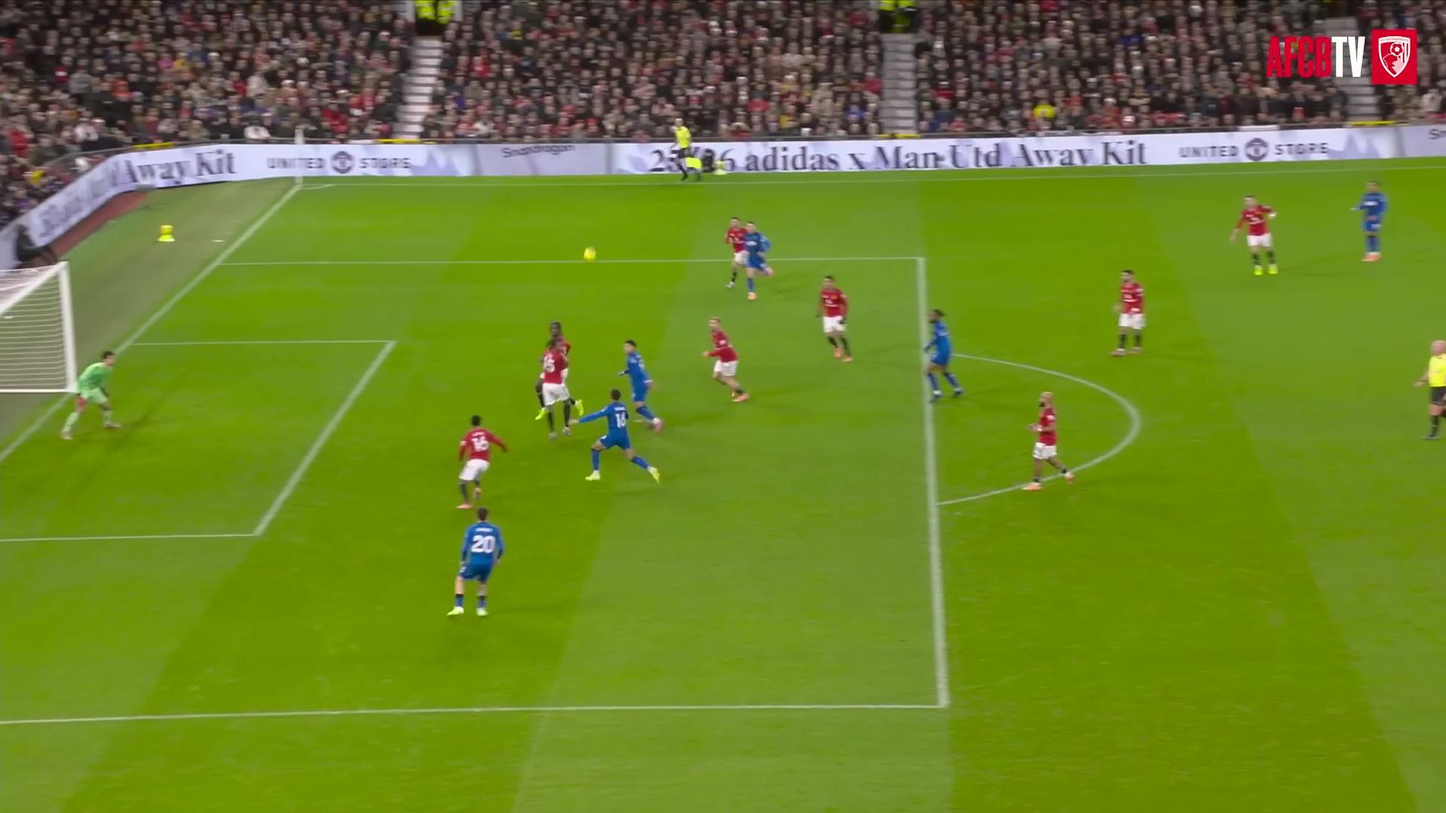football: (578, 246, 600, 265)
player: (578, 389, 660, 481), (448, 507, 504, 616), (1023, 391, 1074, 490), (61, 352, 119, 439), (458, 416, 508, 509), (618, 340, 661, 431), (923, 309, 964, 402), (703, 317, 748, 401), (1230, 196, 1277, 275), (541, 336, 572, 437), (1111, 269, 1145, 355), (819, 276, 852, 361), (1353, 182, 1387, 261), (744, 221, 773, 300), (725, 218, 746, 288), (549, 321, 571, 359)
referee: (1415, 340, 1445, 439), (673, 118, 691, 180)
